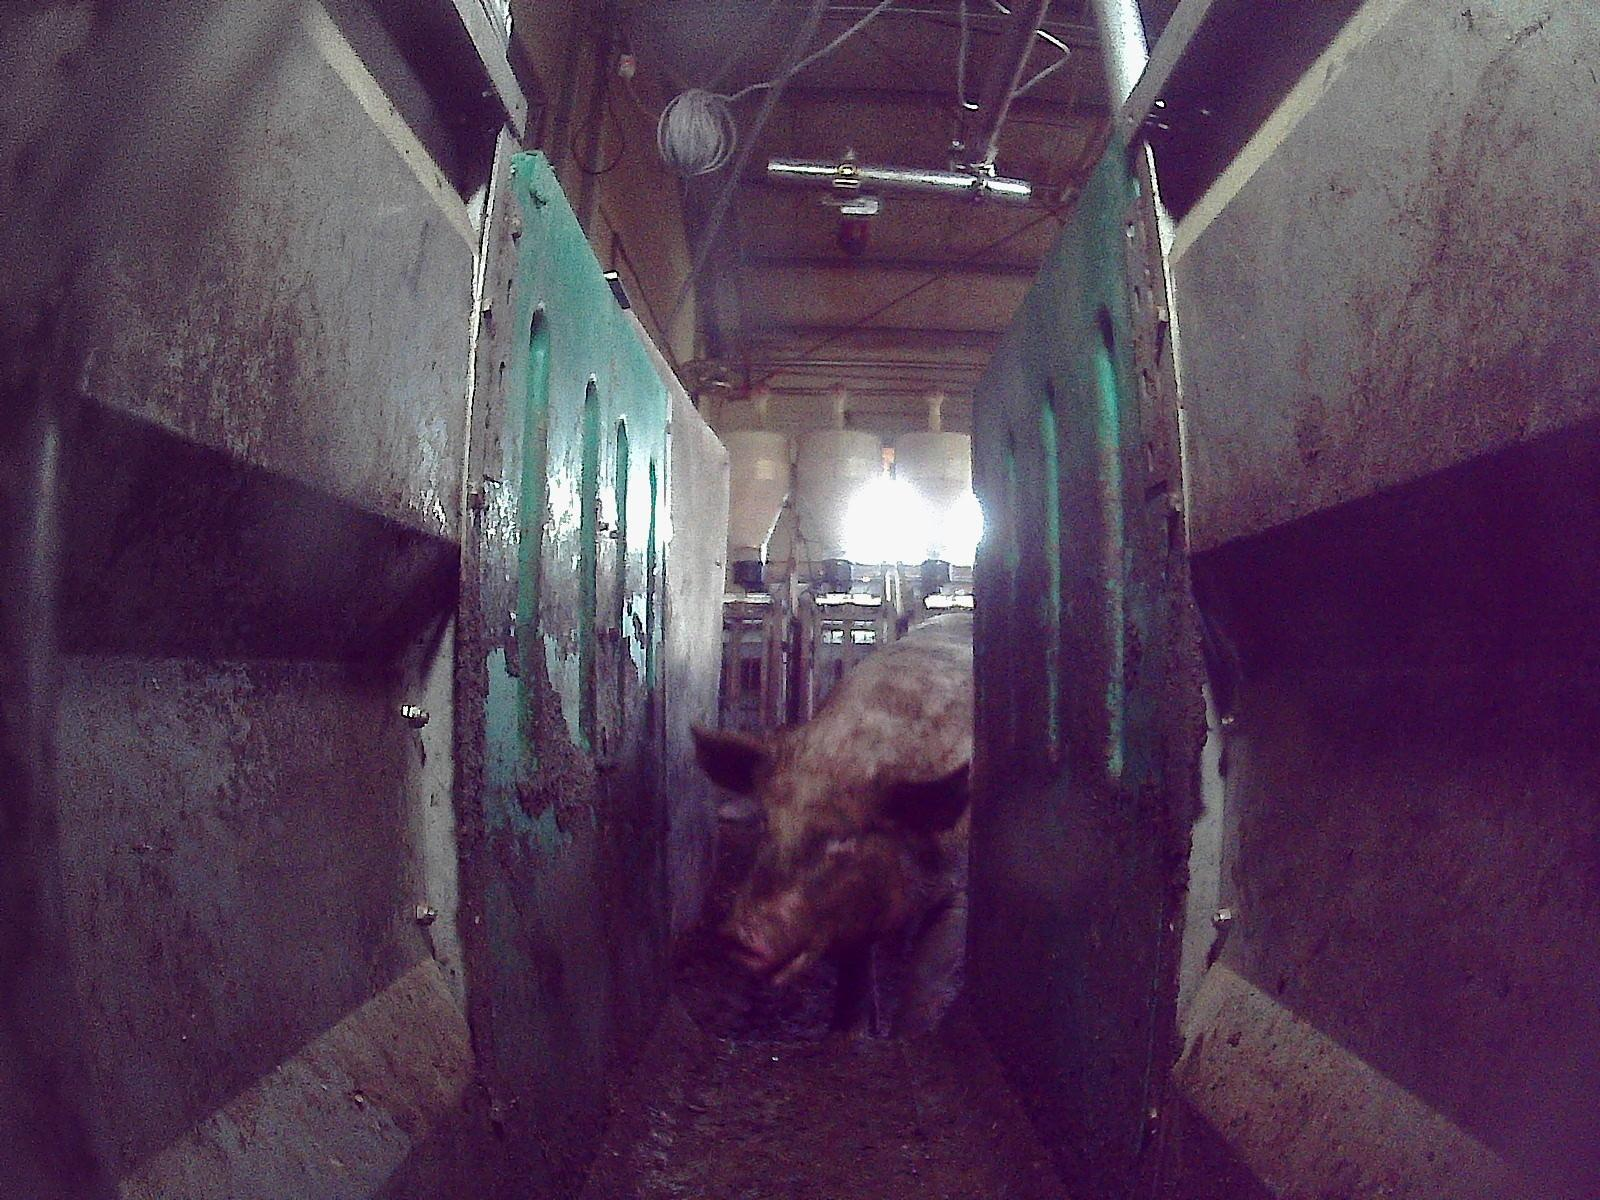Face: (717, 761, 927, 987)
